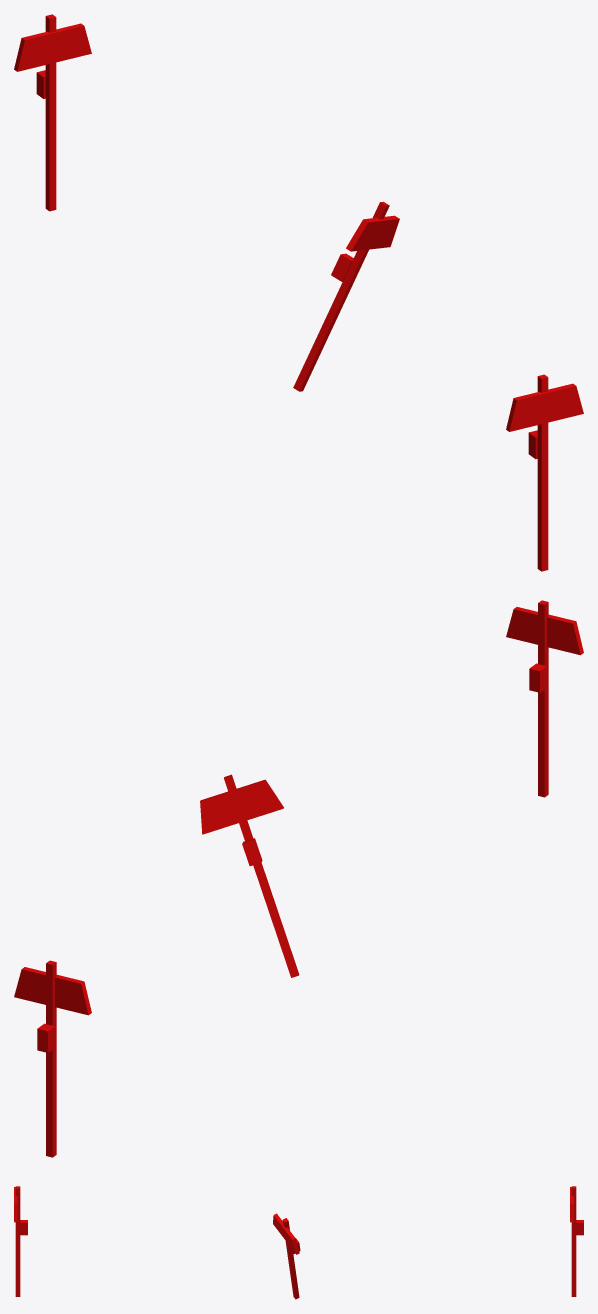
Rendered from SM_Prop_Powerpole_Preset_03_Collision.fbx.
3 views of the same model, one above another, from view 1: azimuth 30°, elevation 25°; view 2: azimuth 150°, elevation 25°; view 3: azimuth 270°, elevation 25° (orthographic). The views are drawn at different scales.
Visible parts, largest first — view 1: SM_Prop_Powerpole_Preset_03_Collision; view 2: SM_Prop_Powerpole_Preset_03_Collision; view 3: SM_Prop_Powerpole_Preset_03_Collision.
Part boxes in pixels (x1,y1,x2,y2): SM_Prop_Powerpole_Preset_03_Collision: [14, 14, 583, 571]; SM_Prop_Powerpole_Preset_03_Collision: [14, 600, 583, 1157]; SM_Prop_Powerpole_Preset_03_Collision: [14, 1186, 583, 1299].
Size of the model in its own units: 482 by 659 by 3075.
